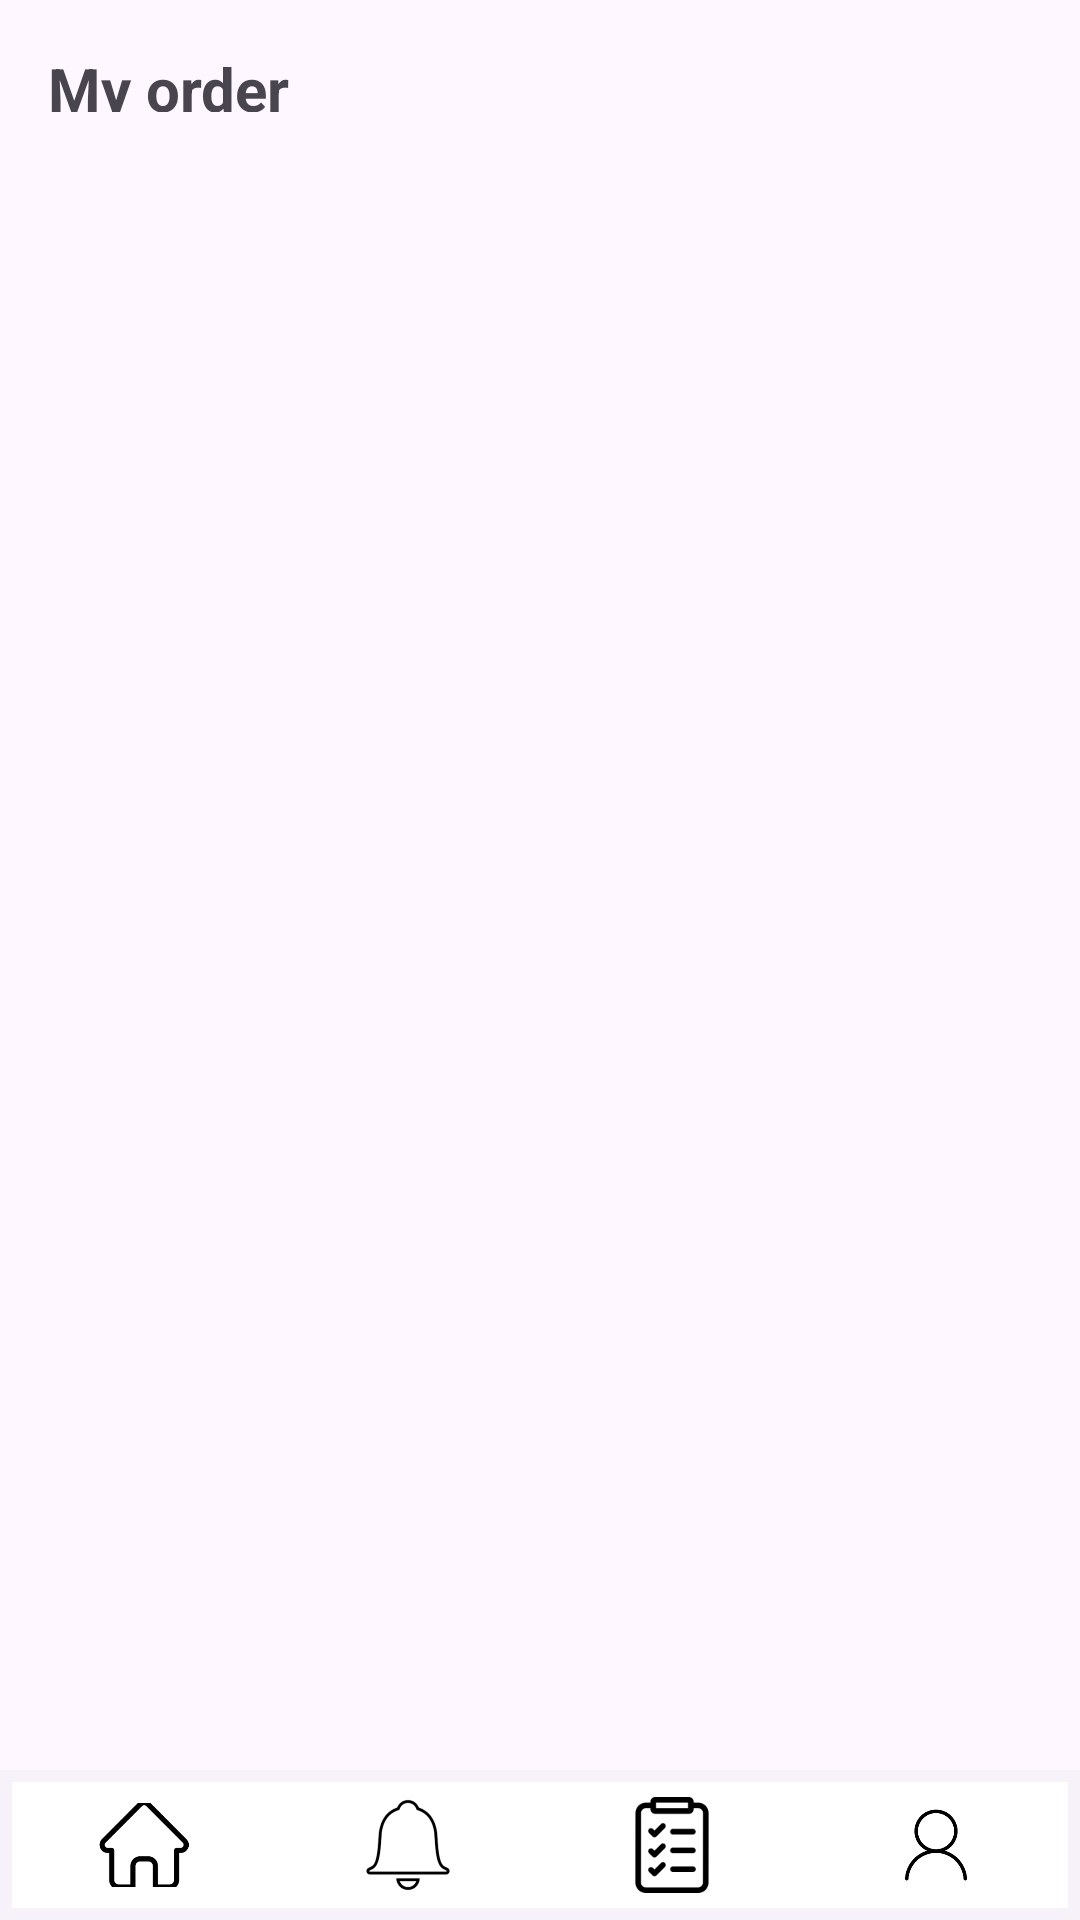

Icons on this 1080 x 1920 Android screen, each with the point to tap as point (x, y):
bell: point (408, 1845)
list: point (672, 1845)
